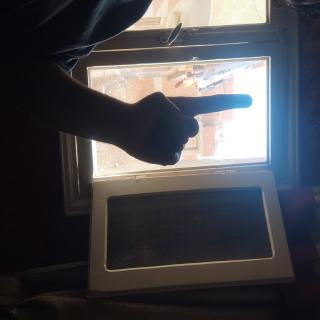BAA: (63, 86, 126, 266)
